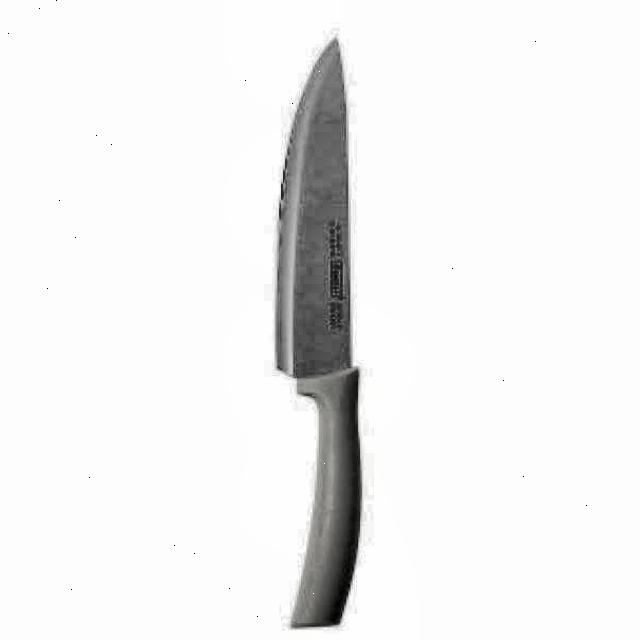knife: (270, 34, 366, 629)
